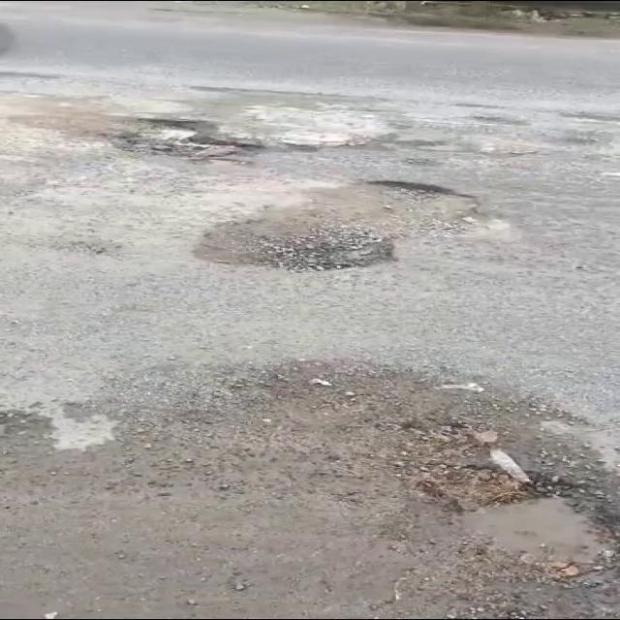lubang: (403, 421, 616, 578), (197, 181, 482, 269), (101, 118, 267, 159)
